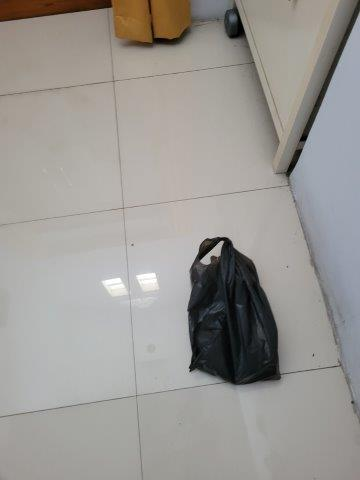plastik: (187, 235, 282, 383)
